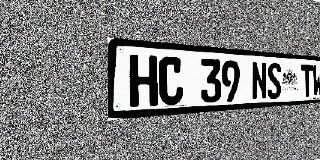3: (201, 59, 221, 103)
9: (222, 60, 240, 102)
C: (158, 56, 183, 106)
H: (129, 54, 158, 107)
N: (252, 61, 267, 100)
S: (267, 62, 281, 99)
T: (301, 64, 313, 97)
W: (313, 65, 320, 97)
